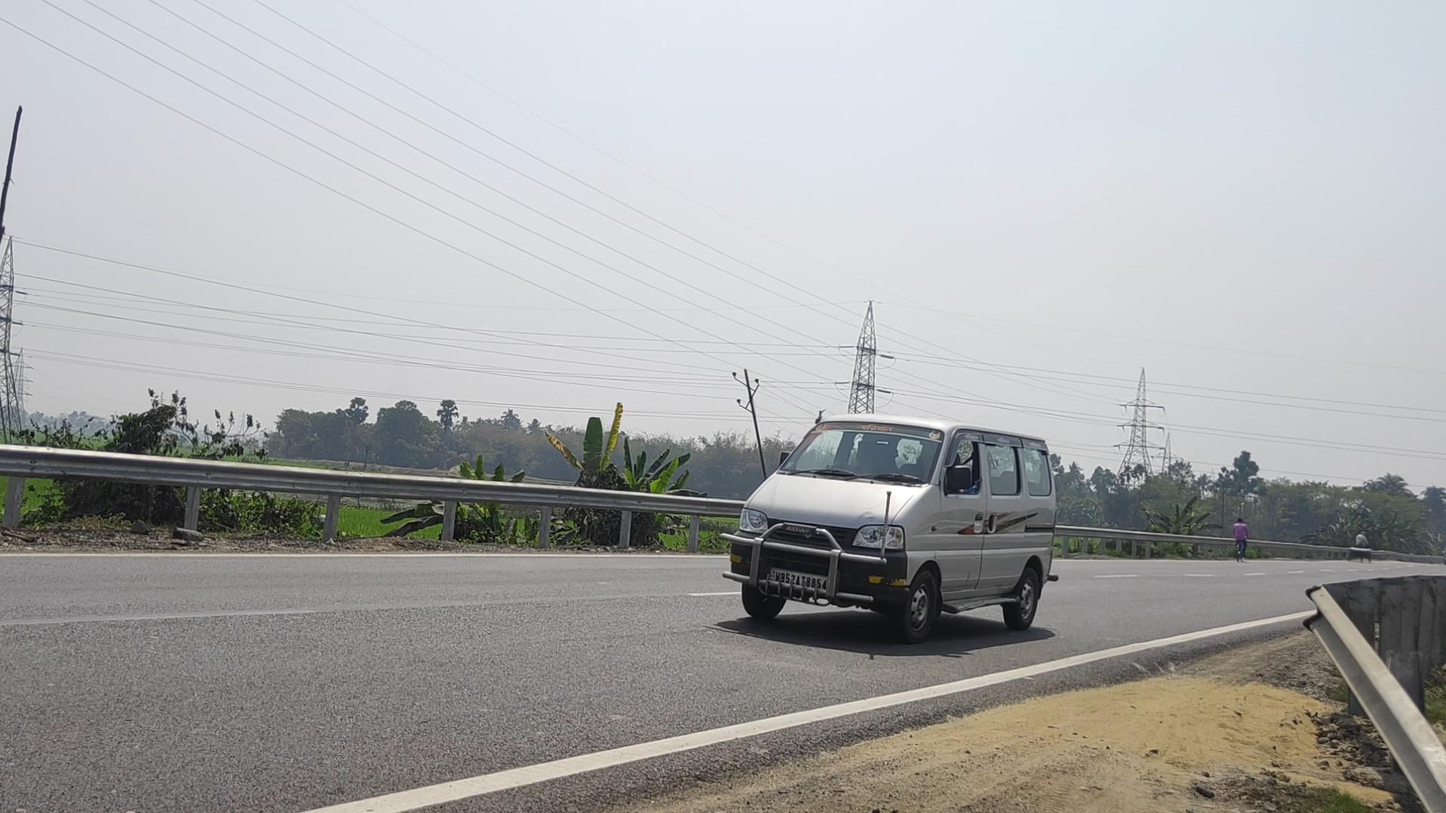bike: (1232, 517, 1249, 562)
van: (721, 415, 1060, 644)
